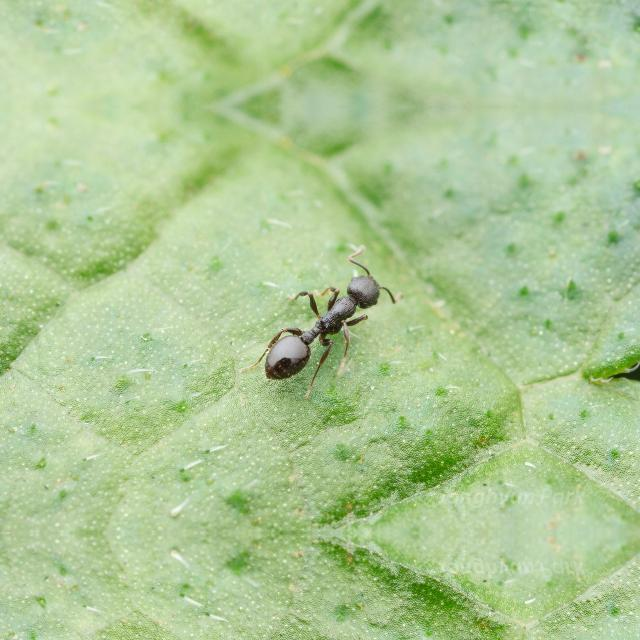Temnothorax: (238, 240, 406, 400)
